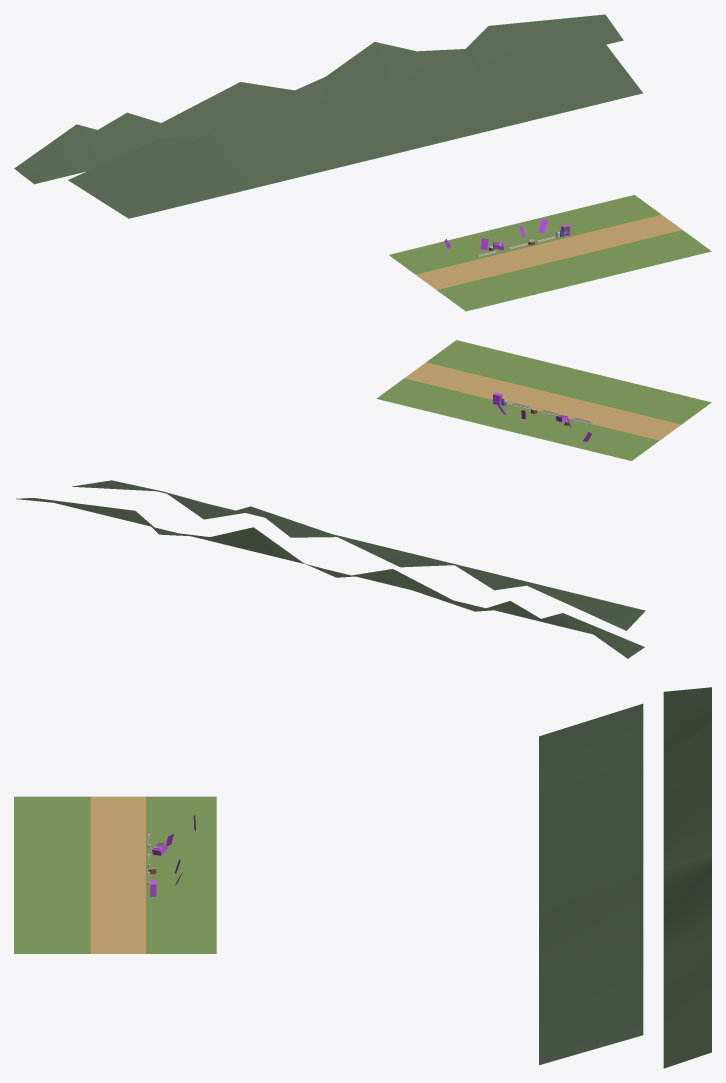
Rendered from Stage1_Meadow.fbx.
3 views of the same model, one above another, from view 1: azimuth 30°, elevation 25°; view 2: azimuth 150°, elevation 25°; view 3: azimuth 270°, elevation 25° (orthographic). The views are drawn at different scales.
Visible parts, largest first — view 1: Meadow; view 2: Meadow; view 3: Meadow.
Part boxes in pixels (x1,y1,x2,y2): Meadow: (14,14,711,311); Meadow: (16,340,711,658); Meadow: (14,687,711,1068).
Size of the model in its own units: 2978 by 253 by 2323.
